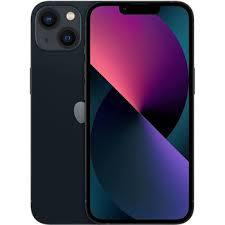Smartphone: (83, 6, 185, 225), (34, 3, 90, 225)
